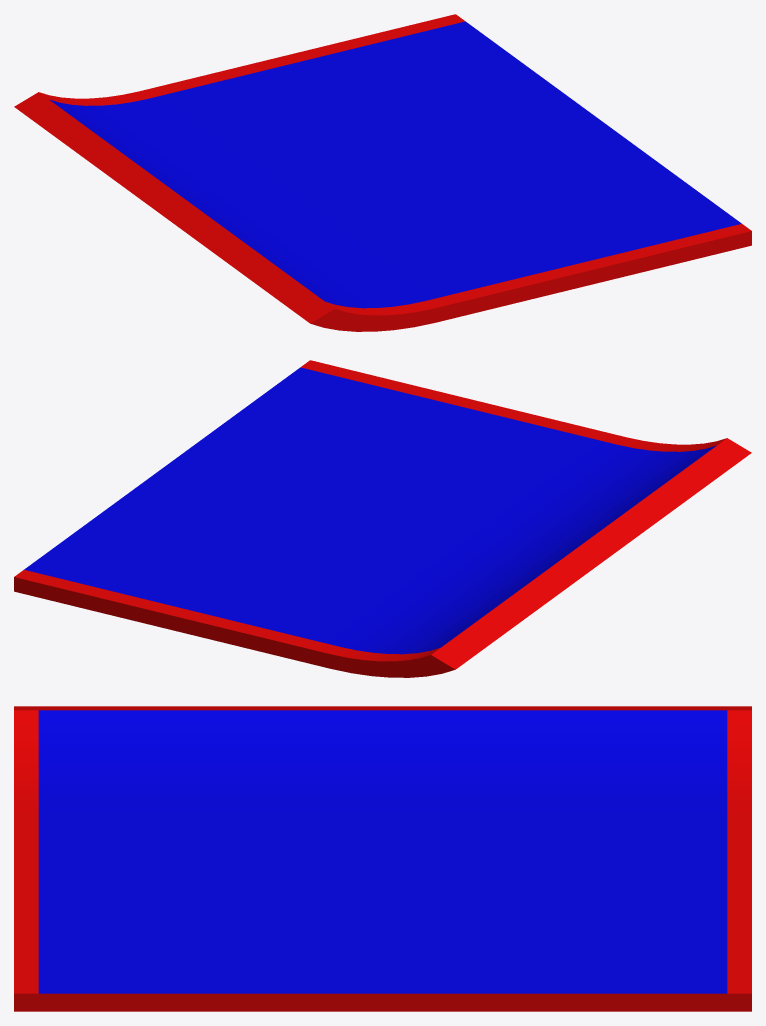
File: metal door prototype.fbx
The picture shows the model from 3 angles, top to bottom: view 1: azimuth 30°, elevation 25°; view 2: azimuth 150°, elevation 25°; view 3: azimuth 270°, elevation 25°; orthographic projection. The views are drawn at different scales.
Visible parts, largest first — view 1: pCube2; view 2: pCube2; view 3: pCube2.
Part boxes in pixels (x1,y1,x2,y2): pCube2: [14, 14, 751, 331]; pCube2: [14, 360, 751, 677]; pCube2: [14, 706, 751, 1011].
Bounding box in the file's own units: 0.0837 × 0.00696 × 0.0972.
